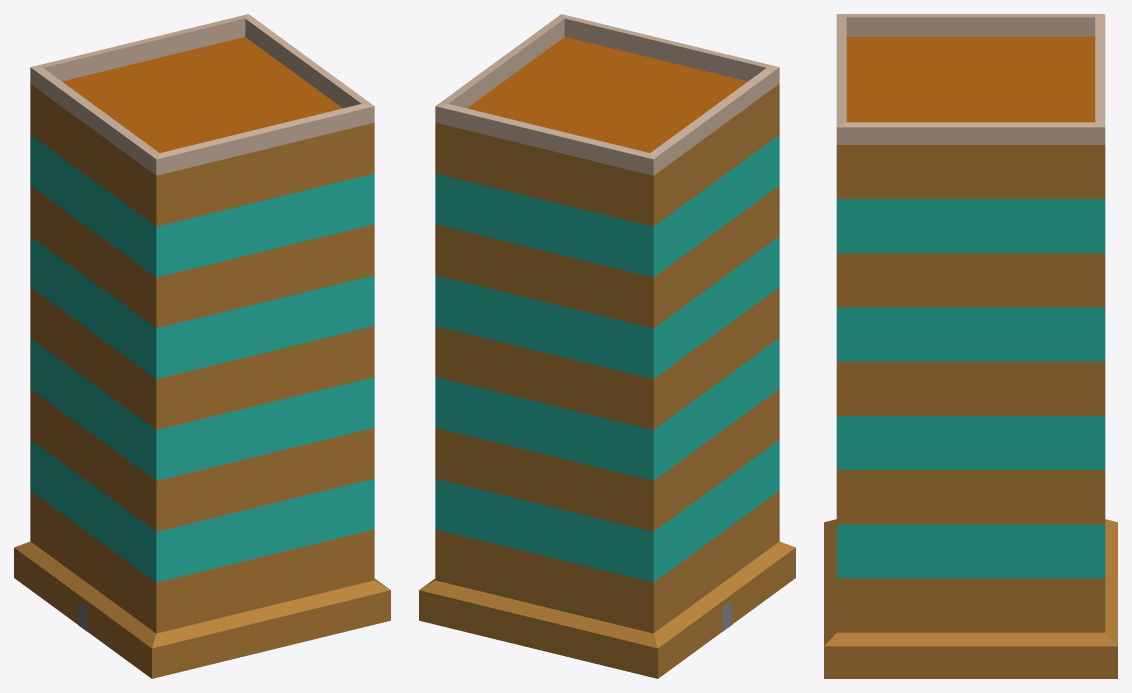
File: Skyscraper7.gltf
3 renders of one model, left to right at view 1: azimuth 30°, elevation 25°; view 2: azimuth 150°, elevation 25°; view 3: azimuth 270°, elevation 25°, orthographic. The views are drawn at different scales.
Parts seen in each view (by area): view 1: Skyscraper7; view 2: Skyscraper7; view 3: Skyscraper7.
Boxes of the visible parts, x1=… form: Skyscraper7: x1=14, y1=14, x2=390, y2=678; Skyscraper7: x1=419, y1=14, x2=795, y2=678; Skyscraper7: x1=824, y1=14, x2=1117, y2=678.
Size of the model in its own units: 2.19 by 4.5 by 2.19.
